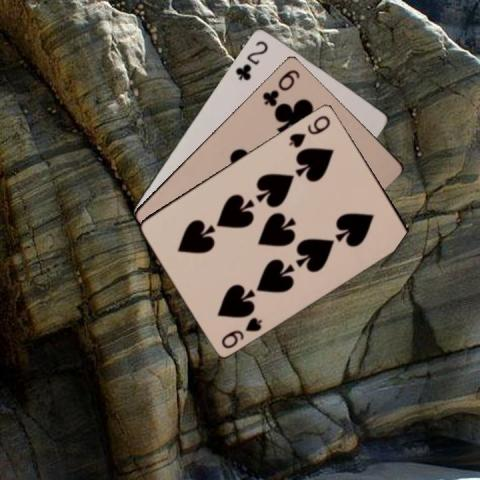2c: (232, 38, 269, 82)
6c: (260, 66, 301, 108)
9s: (286, 112, 332, 149), (218, 313, 264, 350)
